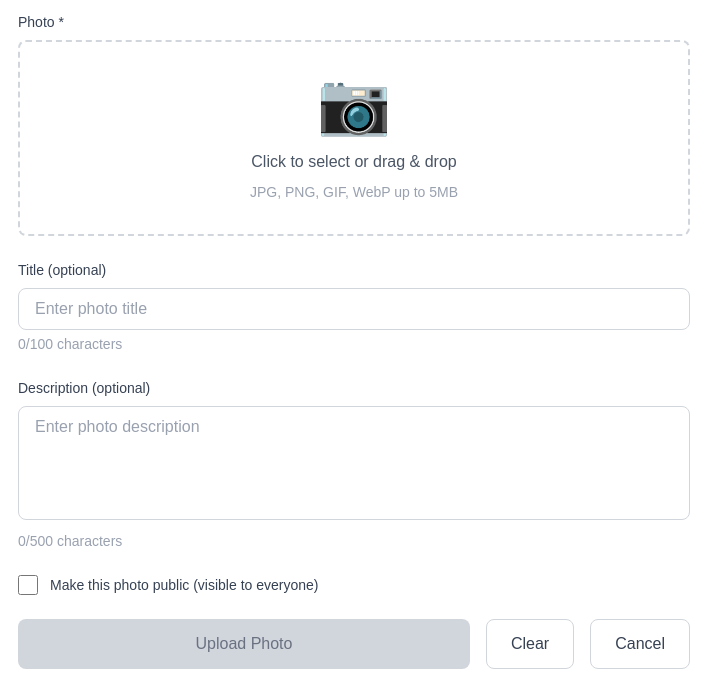
Test: PhotoUploadForm › Title Input › should show character count
Type "Test" into the field with placeholder "Enter photo title" at point(354, 309), box [18,288,690,330]
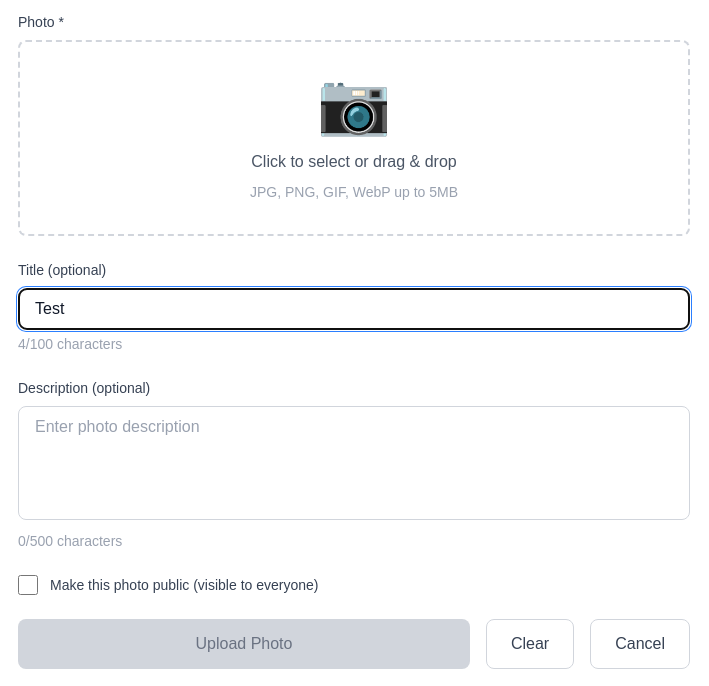
Expected: the text "4/100 characters" is shown, [18,336,122,352]
